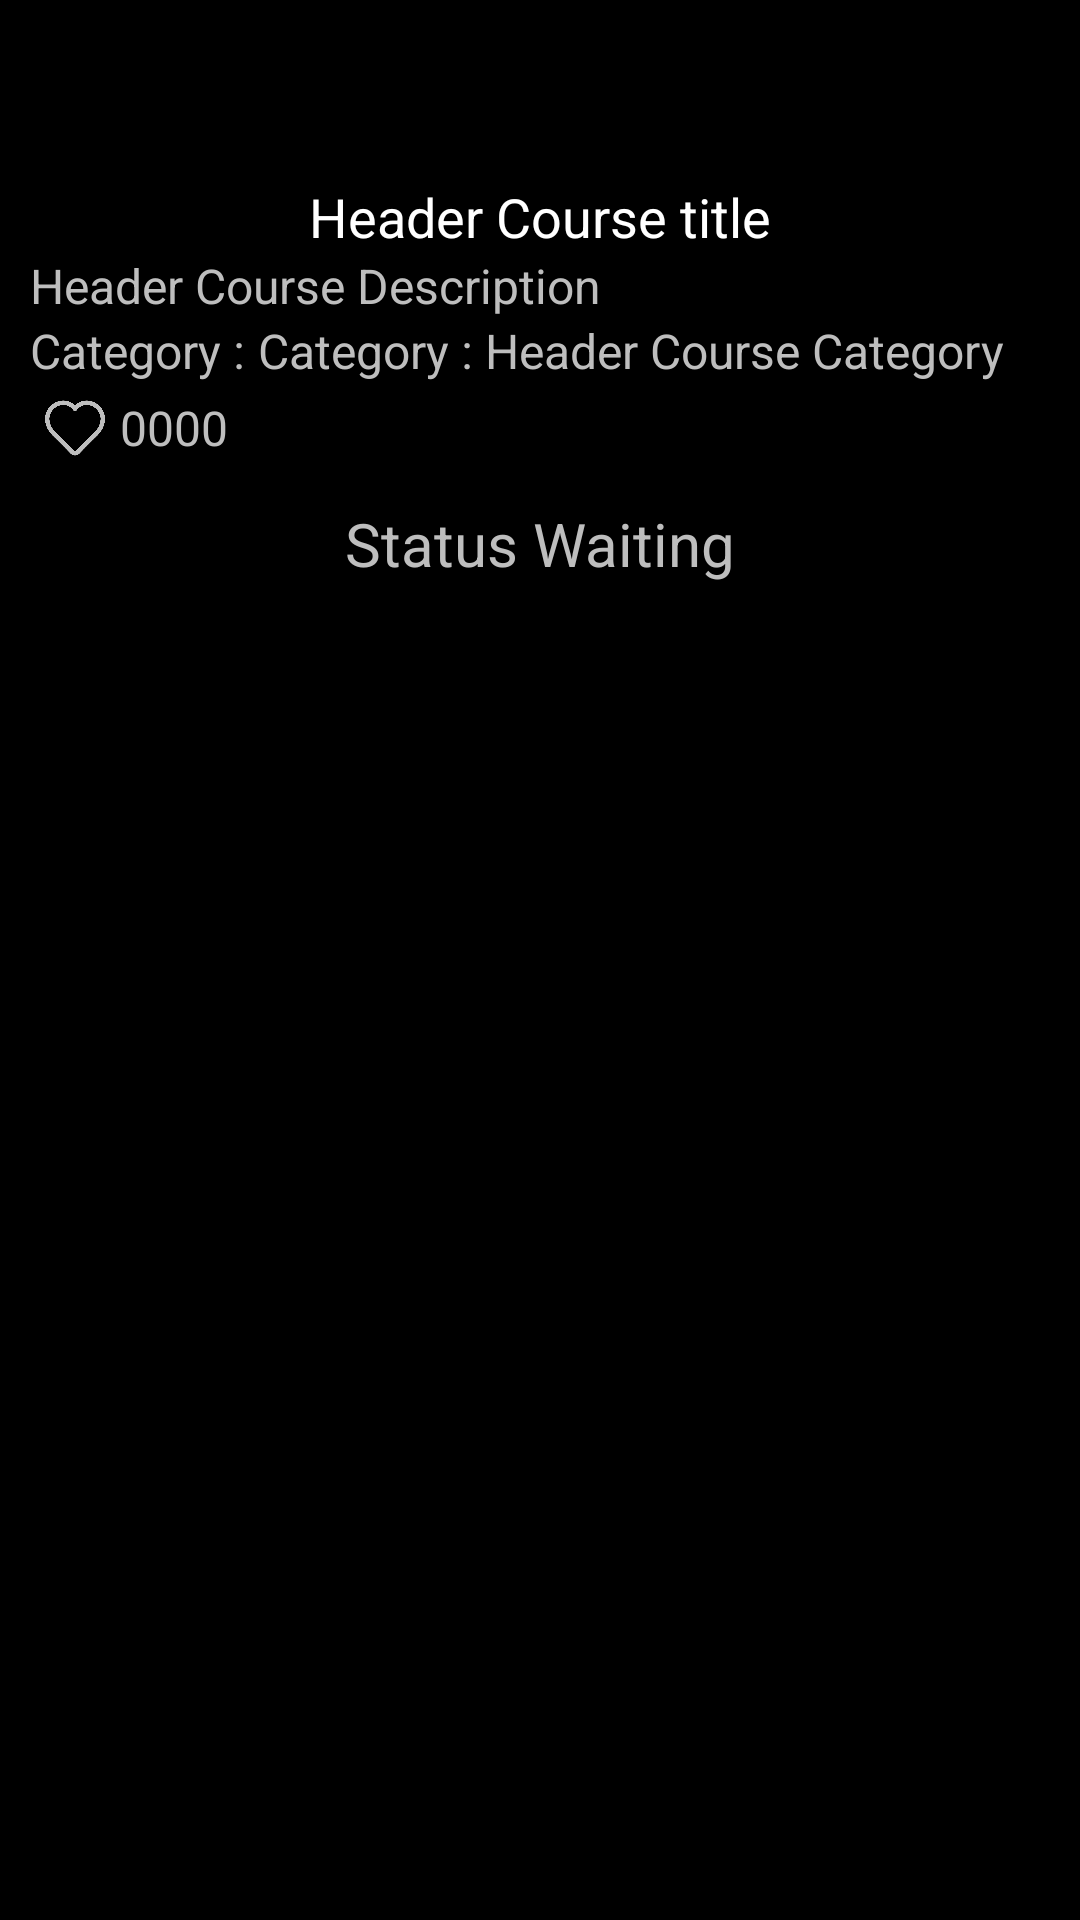

Icon bounding boxes for this 1080x1920 phone screenshot, format (x1, y1, x2, y2):
heart: (45, 400, 105, 456)
